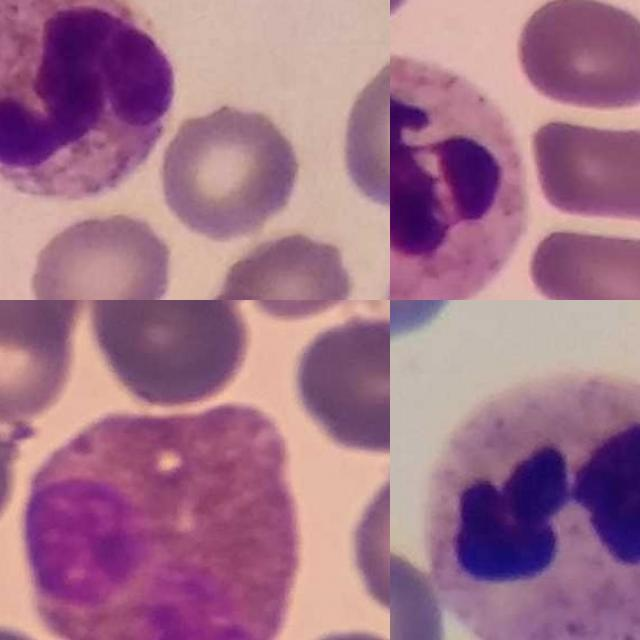Eosinophil: (23, 407, 307, 640)
Neutrophil: (419, 369, 640, 640), (0, 0, 178, 200), (390, 53, 529, 300)
